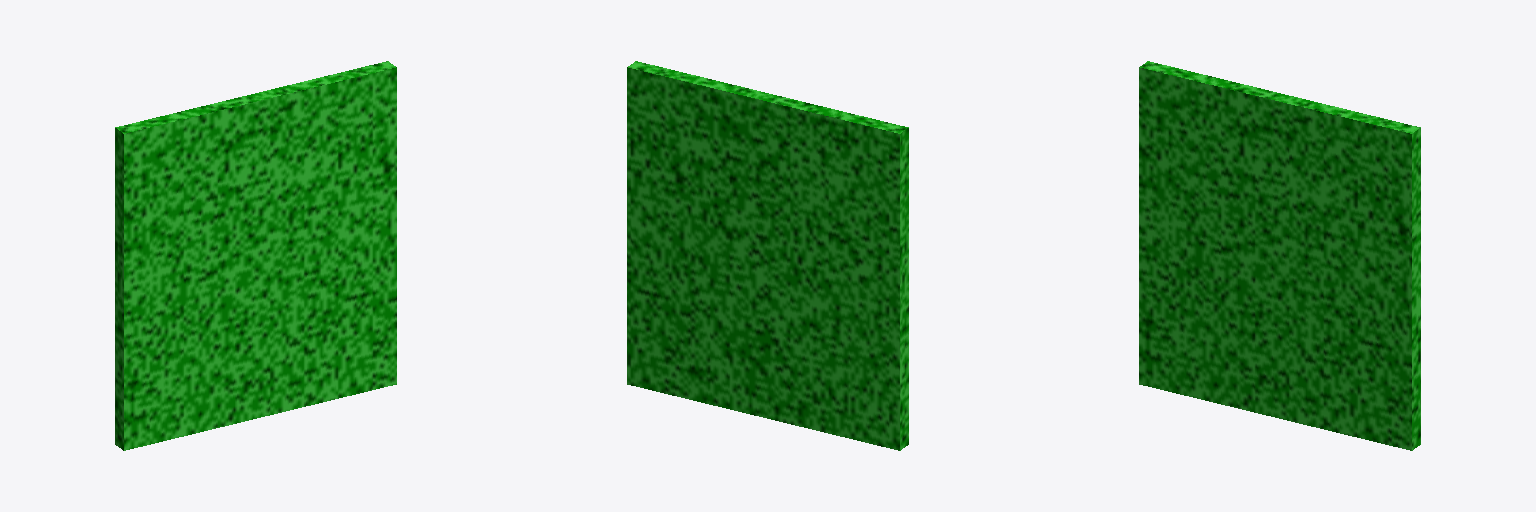
3 renders of one model, left to right at view 1: azimuth 30°, elevation 25°; view 2: azimuth 150°, elevation 25°; view 3: azimuth 330°, elevation 25°, orthographic.
Visible parts, largest first — view 1: Cube2; view 2: Cube2; view 3: Cube2.
Boxes of the visible parts, <box> form: Cube2: <box>115,61,396,450</box>; Cube2: <box>627,61,908,450</box>; Cube2: <box>1139,61,1420,450</box>.
Size of the model in its own units: 3.6 by 4 by 0.2.
Materials: 1 (1 with a texture image).